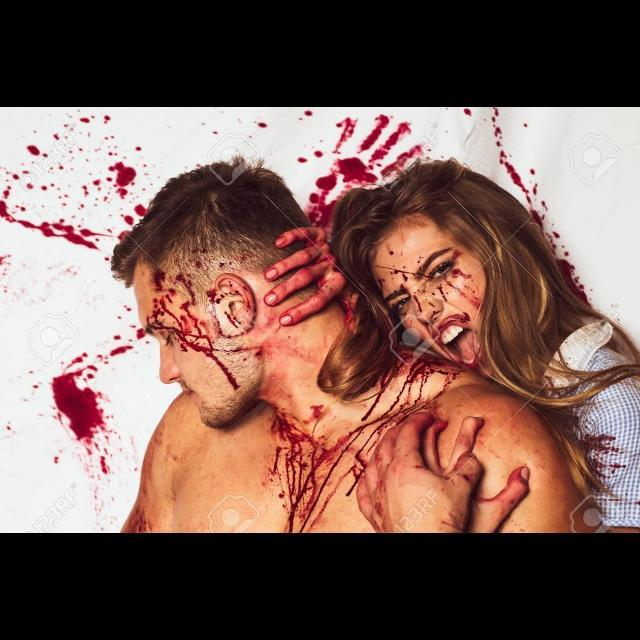blood: (0, 109, 146, 253), (295, 108, 440, 226), (268, 413, 381, 534), (135, 264, 240, 393), (463, 107, 567, 234), (372, 234, 482, 334), (50, 354, 122, 479), (362, 357, 466, 436), (144, 242, 245, 303), (543, 221, 593, 306), (218, 107, 309, 139), (109, 298, 159, 355), (582, 433, 628, 492), (215, 273, 256, 337), (121, 497, 156, 534), (241, 333, 276, 364), (94, 345, 133, 364), (0, 252, 13, 294), (305, 406, 324, 425), (112, 335, 126, 341), (127, 339, 133, 346)
